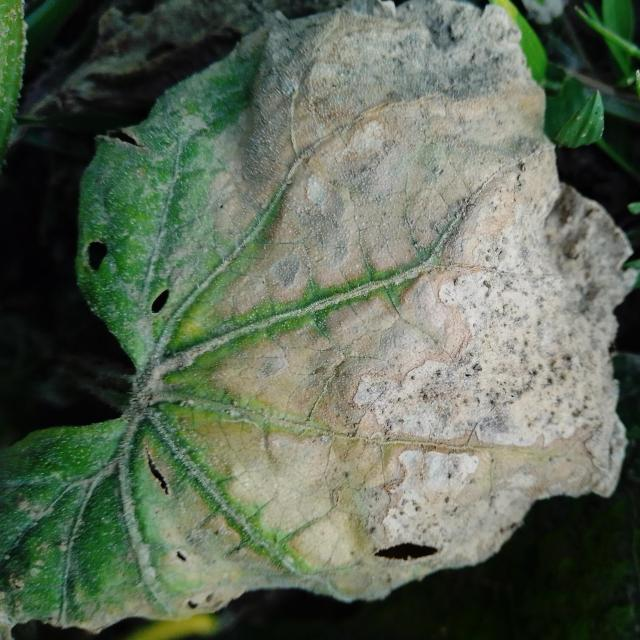cucumber_gummy: (0, 0, 637, 639)
